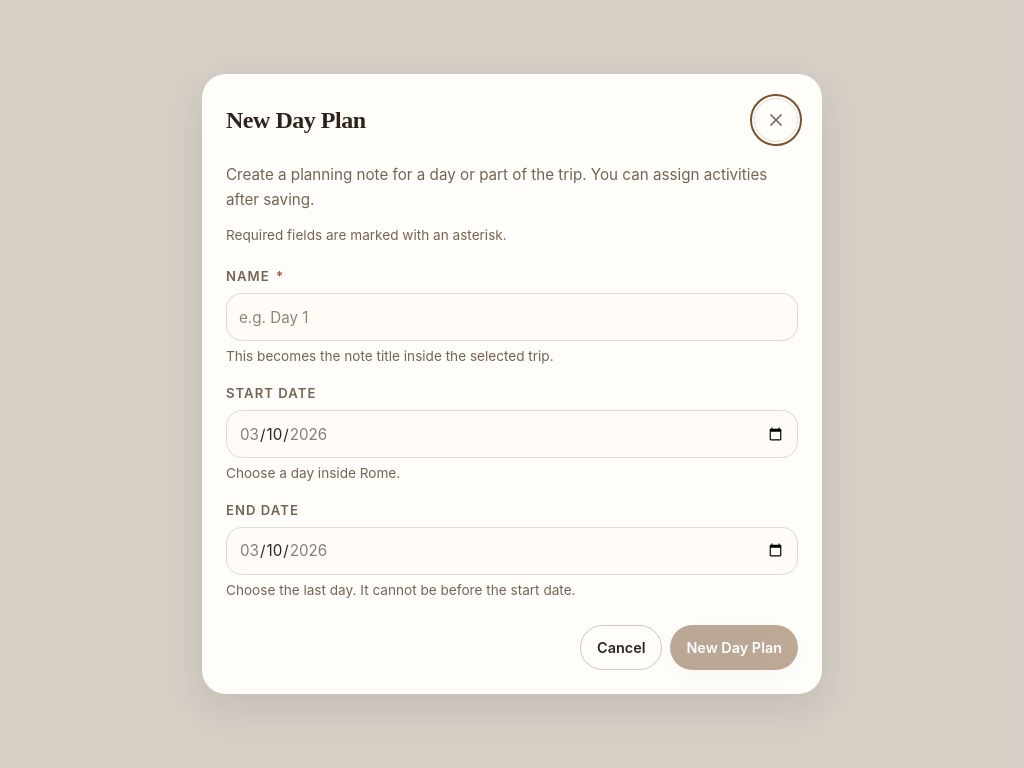
createItemForm › renders and enables save when item name is entered
Expected: the heading "New Day Plan" is shown, [226,108,366,132]
Expected: the button "New Day Plan" is disabled, [670,624,798,670]
Type "Day 1" into the field labelled "Name *".
click(512, 317); type("Day 1")  # box [226,293,798,341]
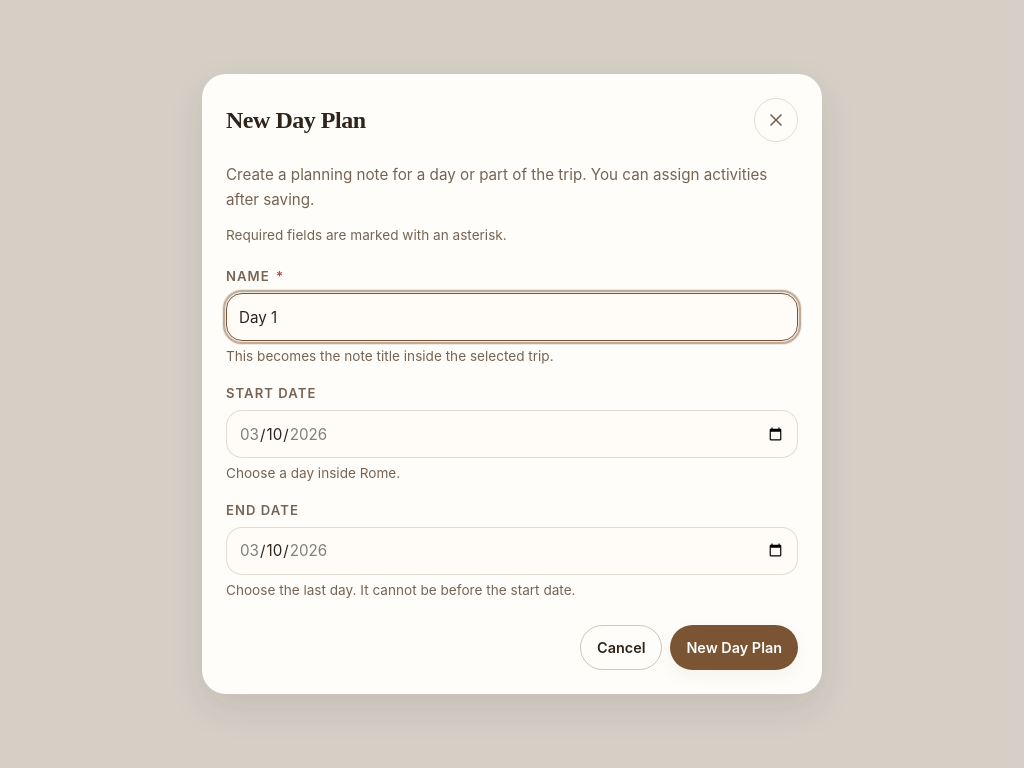
Expected: the button "New Day Plan" is enabled, [670,624,798,670]
